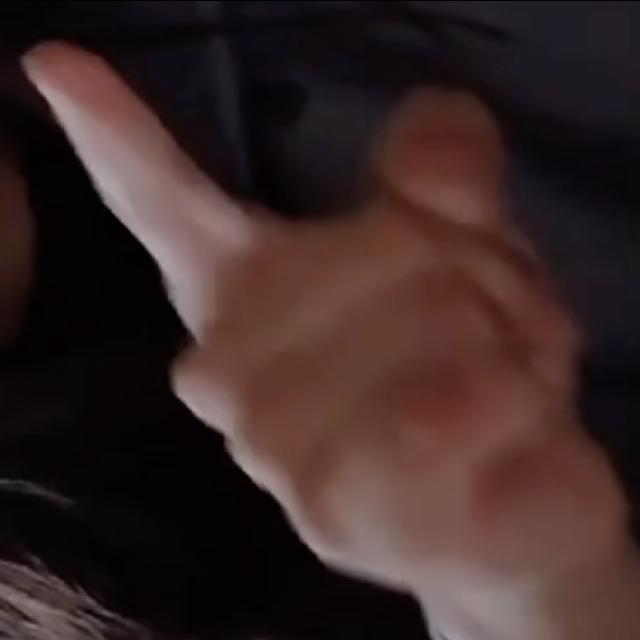Z: (16, 34, 610, 622)
